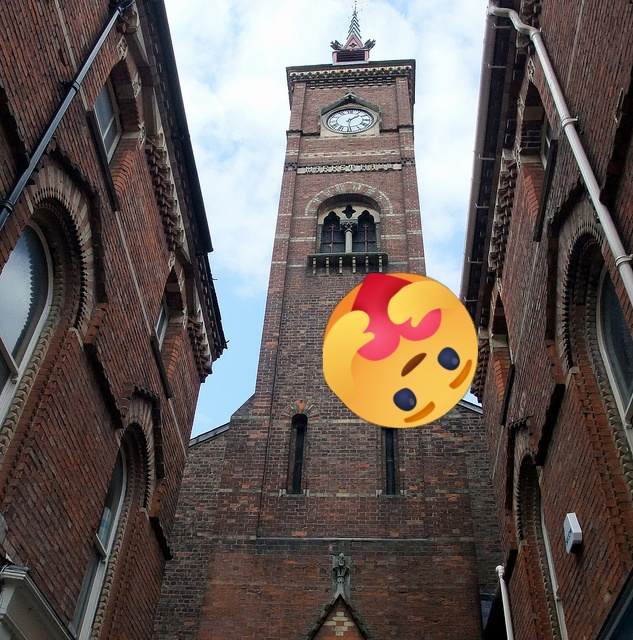care: (323, 273, 478, 428)
